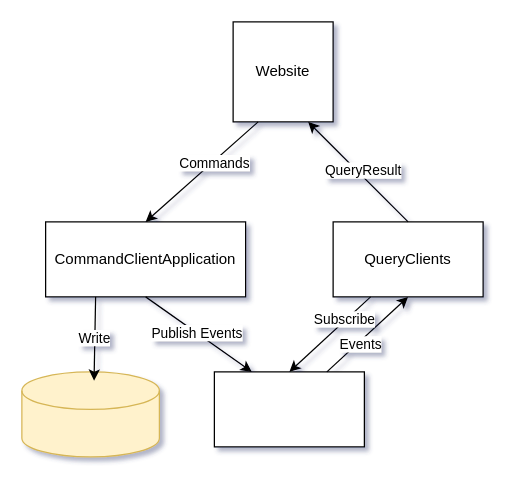
The diagram is 513 pixels wide and 486 high, and some of its shapes have lost their labels. The shapes that lost their labels are listed below. From the top down, each one's box as (x1, y1, x2, y2) in pixels, then its label:
(21, 371, 159, 457): RelDBApplication
(213, 371, 364, 447): Event Bus
